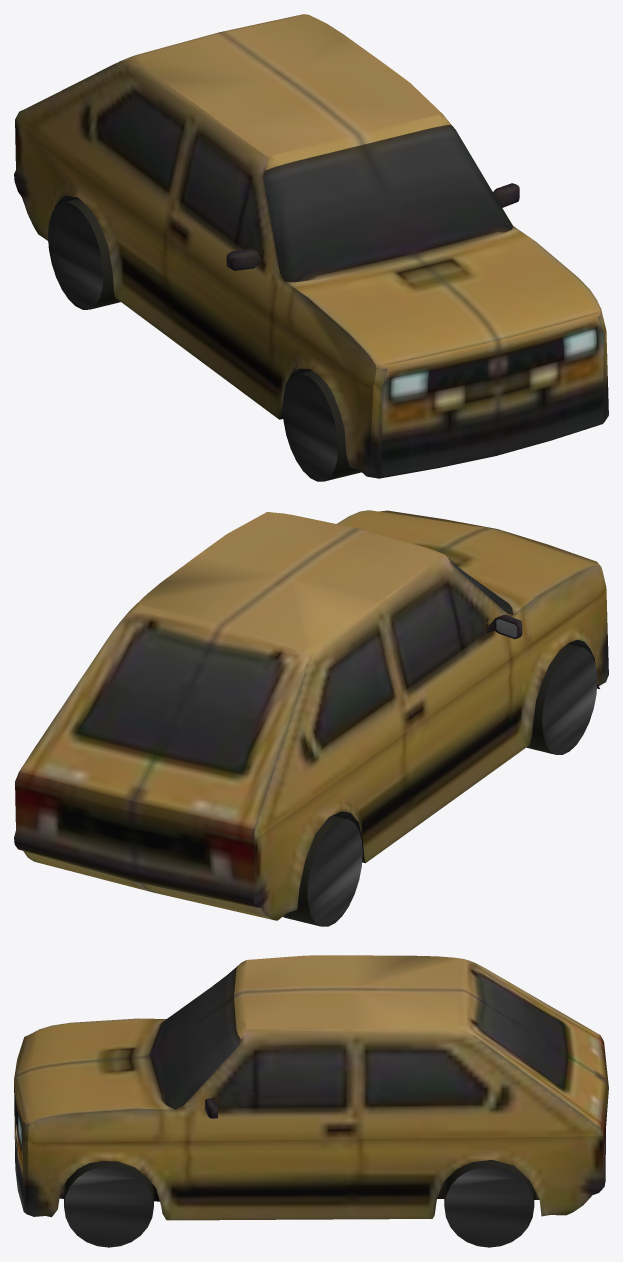
The model's file is n_fiat148.glb.
3 renders of one model, top to bottom at view 1: azimuth 30°, elevation 25°; view 2: azimuth 150°, elevation 25°; view 3: azimuth 270°, elevation 25°, orthographic. The views are drawn at different scales.
Parts seen in each view (by area): view 1: Car_g2_0, wheel_rr, wheel_fr; view 2: Car_g2_0, wheel_rr, wheel_fr; view 3: Car_g2_0, wheel_rl, wheel_fl.
Part boxes in pixels (x1,y1,x2,y2): Car_g2_0: (14,14,608,478); wheel_rr: (48,198,120,309); wheel_fr: (282,370,361,481); Car_g2_0: (14,510,608,920); wheel_rr: (283,815,362,926); wheel_fr: (526,644,597,754); Car_g2_0: (14,955,608,1220); wheel_rl: (444,1159,534,1247); wheel_fl: (64,1161,153,1247).
Size of the model in its own units: 1.69 by 1.42 by 3.69.
2 materials, 1 textured.
